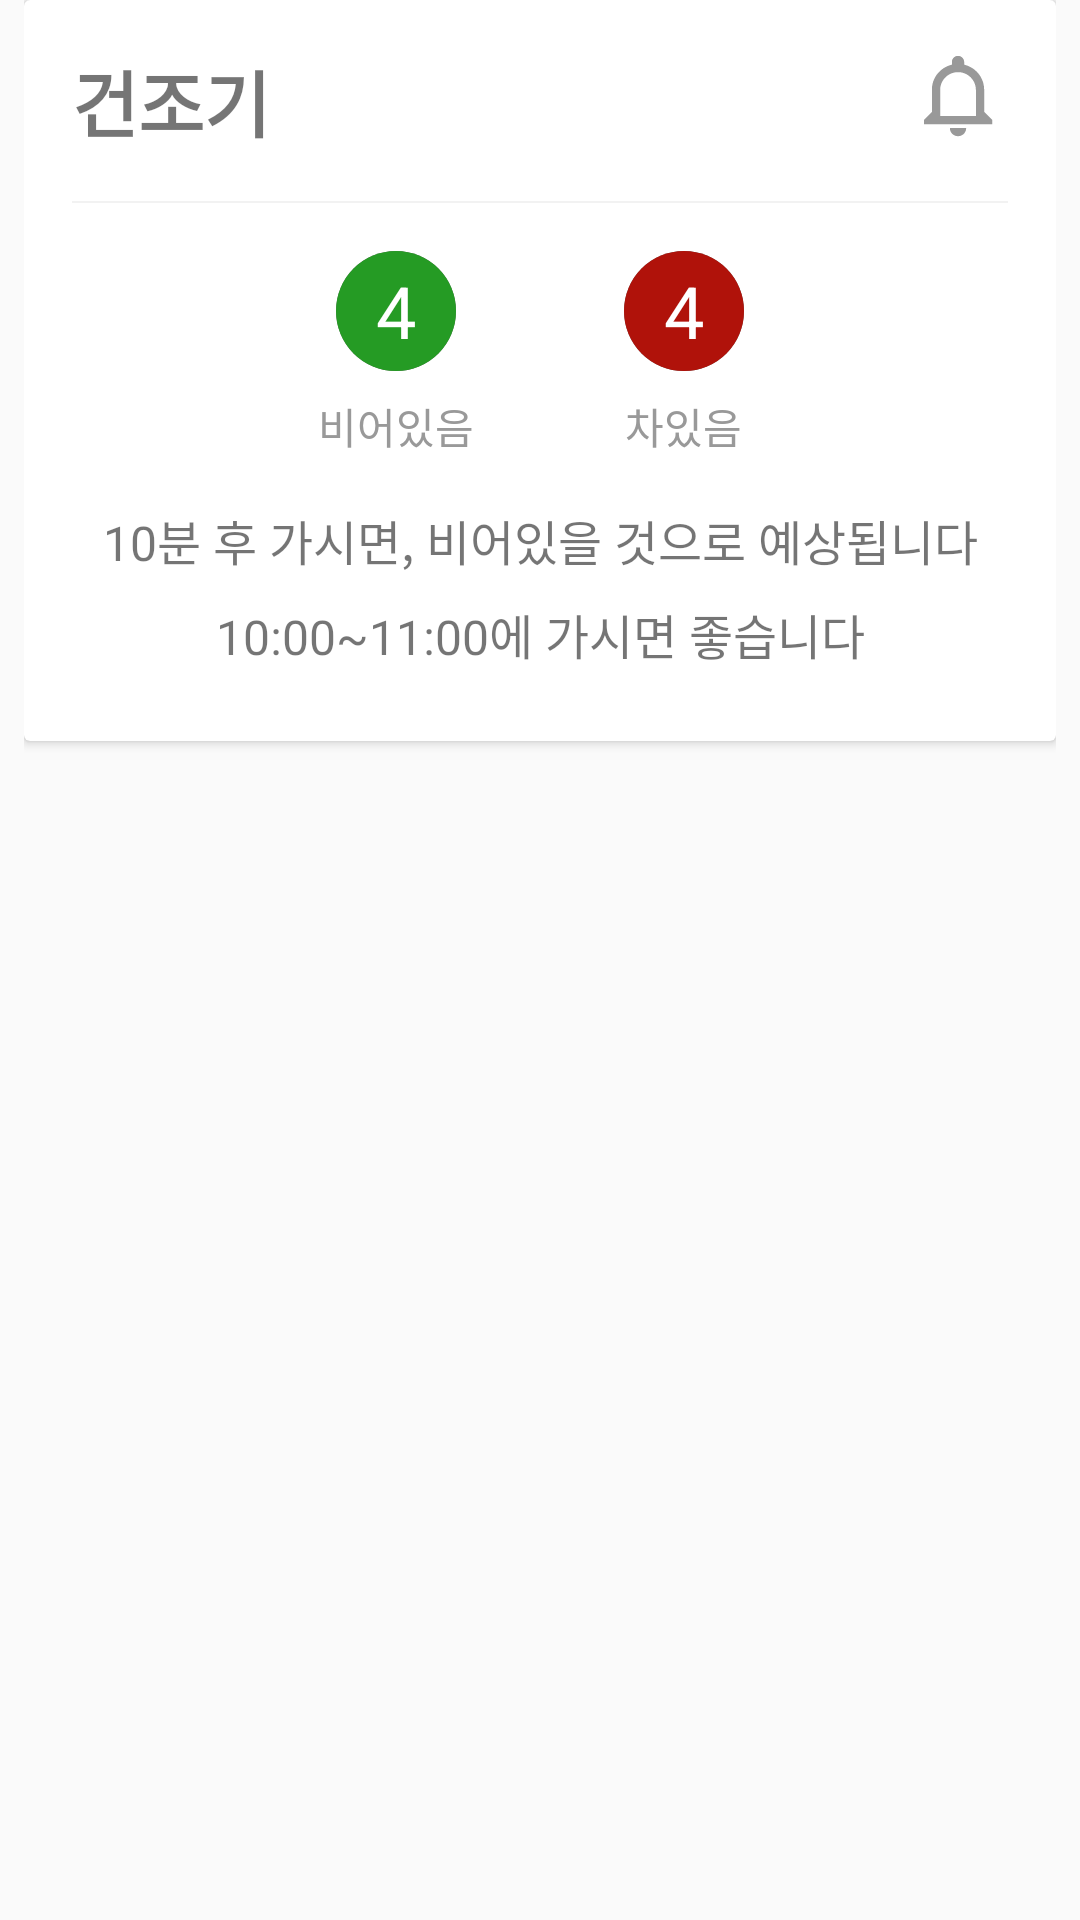

Point at icon controls on the screen. Image size 1080x1920, points as (x,y).
notification none: (958,96)
